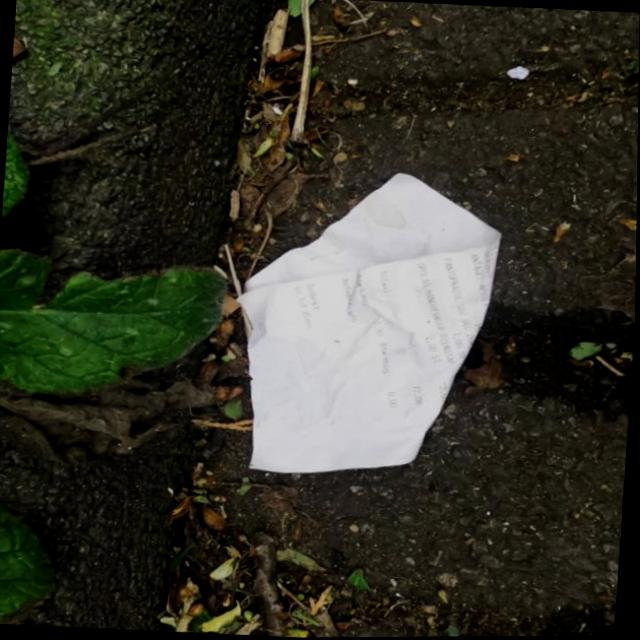Paper: (223, 161, 511, 487)
